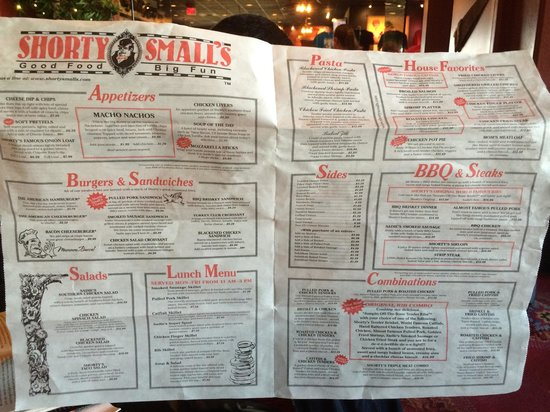news_paper: (1, 9, 550, 412)
